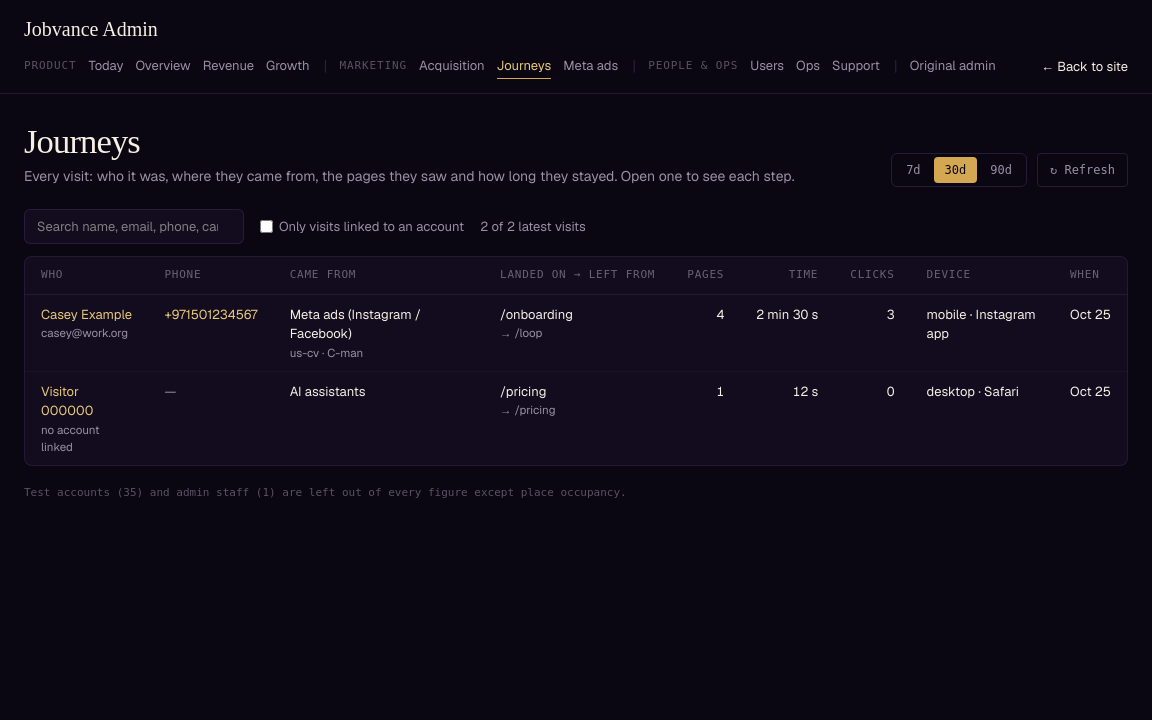
Test: new admin › lists every visit with the person, phone and source, and opens one step by step
Expected: the link "Visitor 000000" is shown, [41,383,93,419]
Click the checkbox labelled "Only visits linked to an account" at (266, 226), box [260,220,273,233]
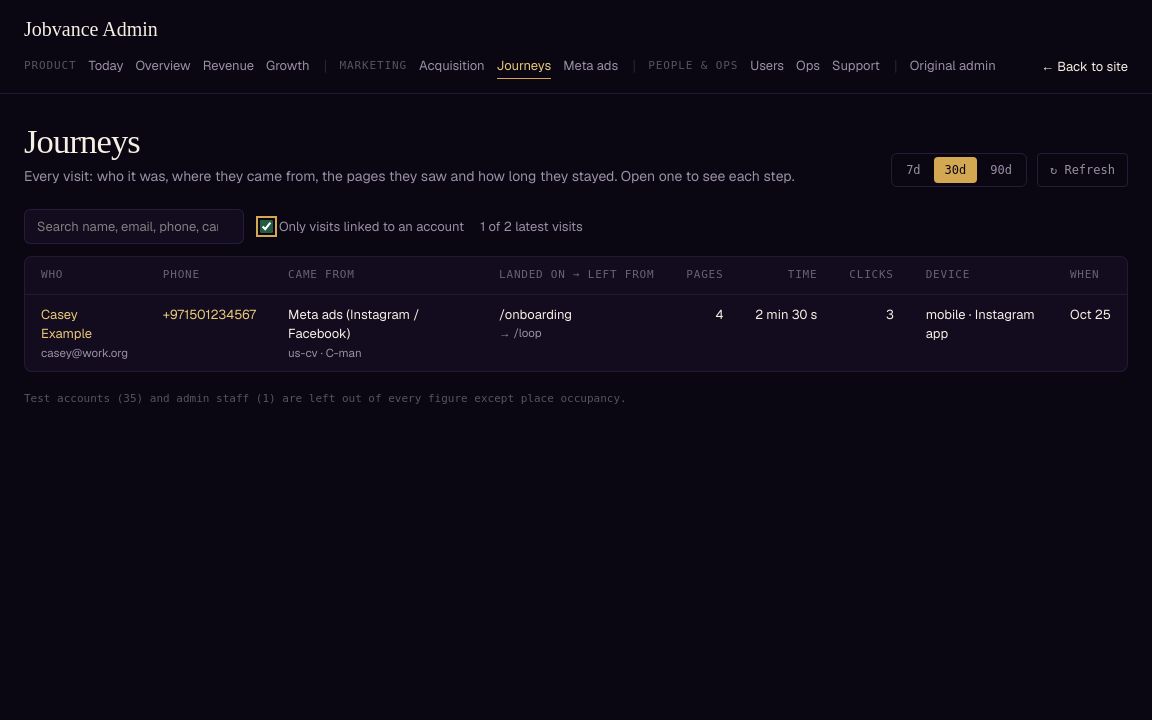
Result: the link "Visitor 000000" is gone
Click the link "Casey Example" at (59, 314), box [41,306,92,342]
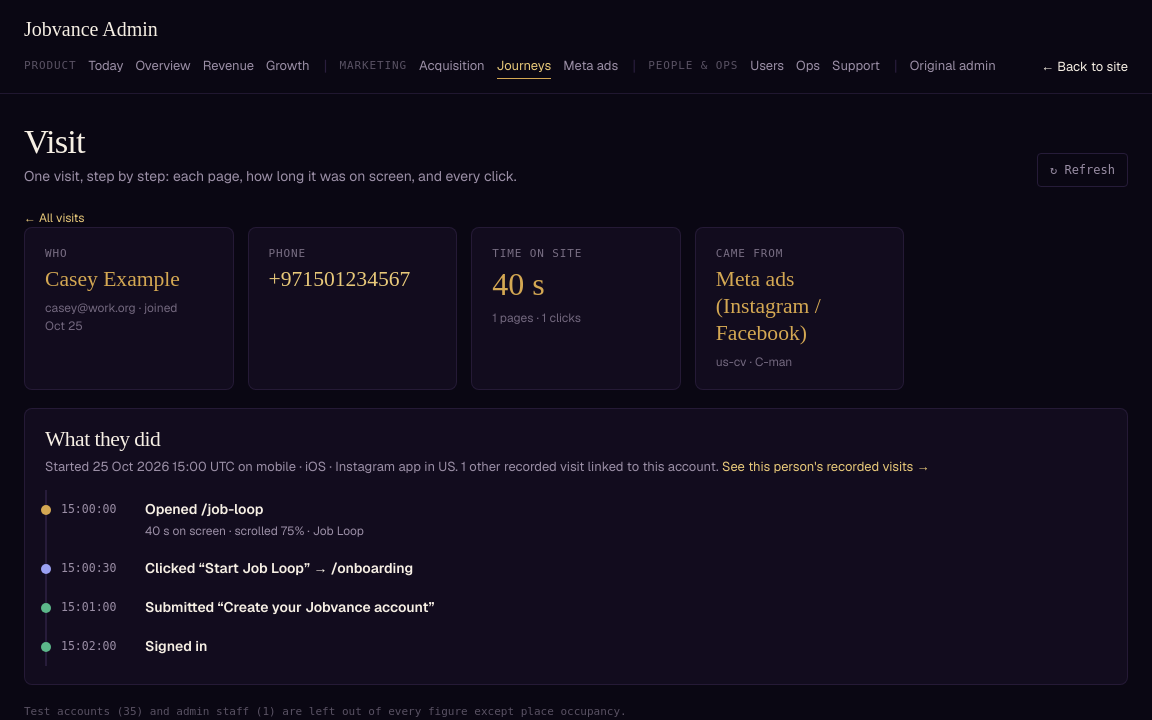
Result: the text "Clicked “Start Job Loop” → /onboarding" is shown at [145,559,413,577]
Result: the text "Opened /job-loop" is shown at [145,500,263,518]
Result: the text "40 s on screen · scrolled 75% · Job Loop" is shown at [145,523,364,539]
